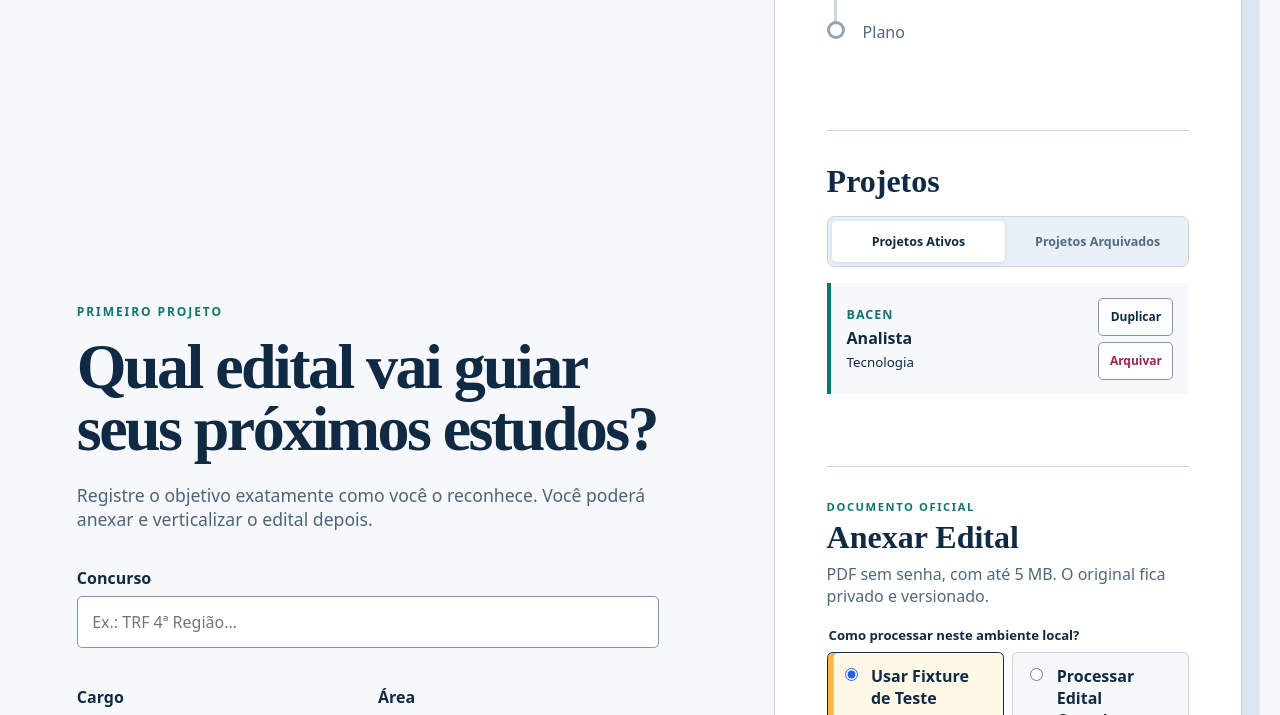
Test: first project journey › archives with confirmation, consults the archive, and duplicates an independent active project
(page scrolled)
What coordinates should you click on to do the following:
click the button with aria-label "Arquivar BACEN"
I would click on:
 (1136, 361)
Its box is [1098, 342, 1173, 380].
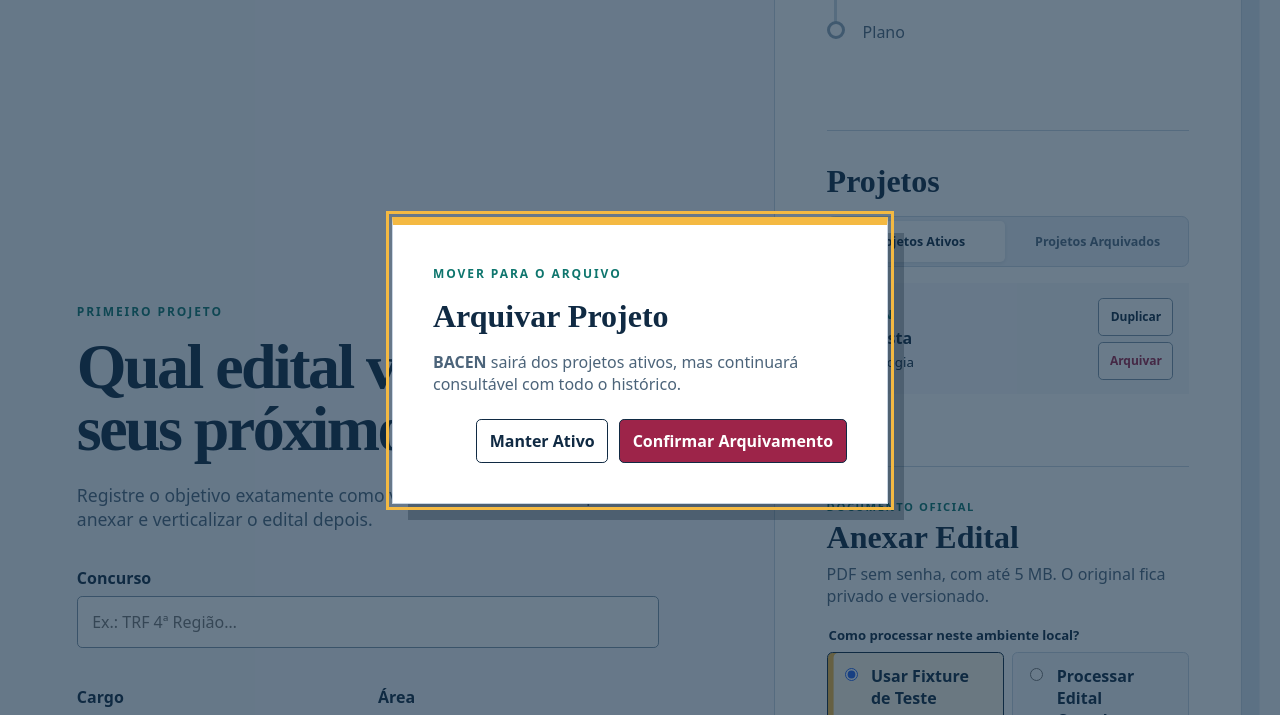
Check: the dialog "Arquivar Projeto" is shown, box [392, 216, 888, 504]
What coordinates should you click on to do the following:
click the button "Confirmar Arquivamento"
I would click on:
 (733, 440)
Its box is [619, 418, 847, 462].
(page scrolled)
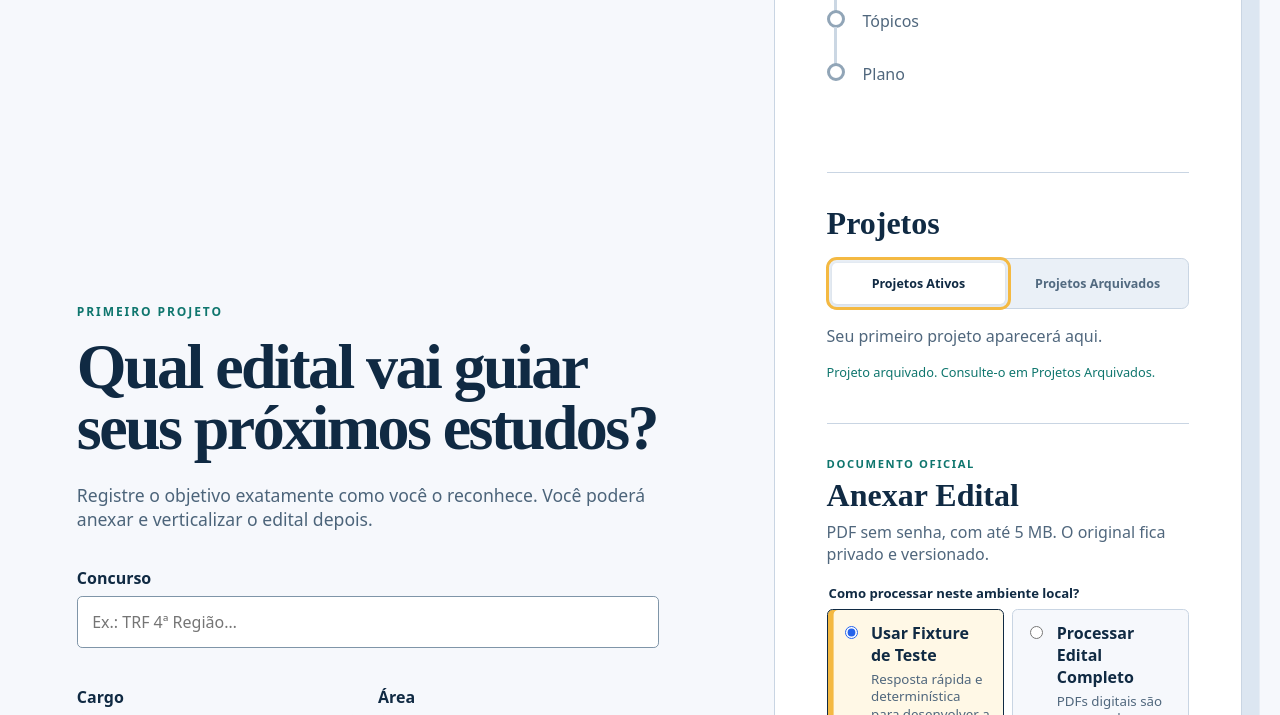
Check: the text "Projeto arquivado. Consulte-o em Projetos Arquivados." is shown, box [827, 363, 1189, 383]
What coordinates should you click on to do the following:
click the button "Projetos Arquivados"
I would click on:
 (1098, 283)
Its box is [1011, 263, 1184, 304].
(page scrolled)
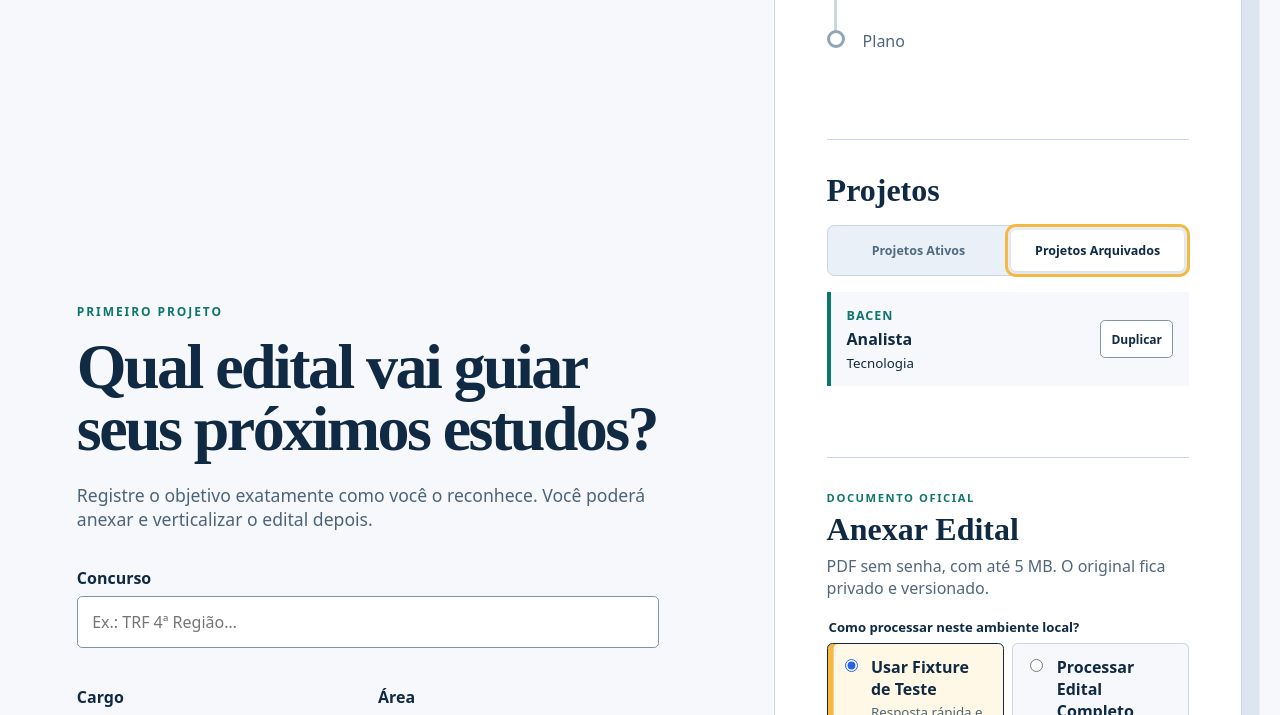
Check: the text "Analista" is shown, box [847, 328, 912, 350]
What coordinates should you click on to do the following:
click the button with aria-label "Duplicar BACEN"
I would click on:
 (1137, 339)
Its box is [1100, 320, 1173, 358].
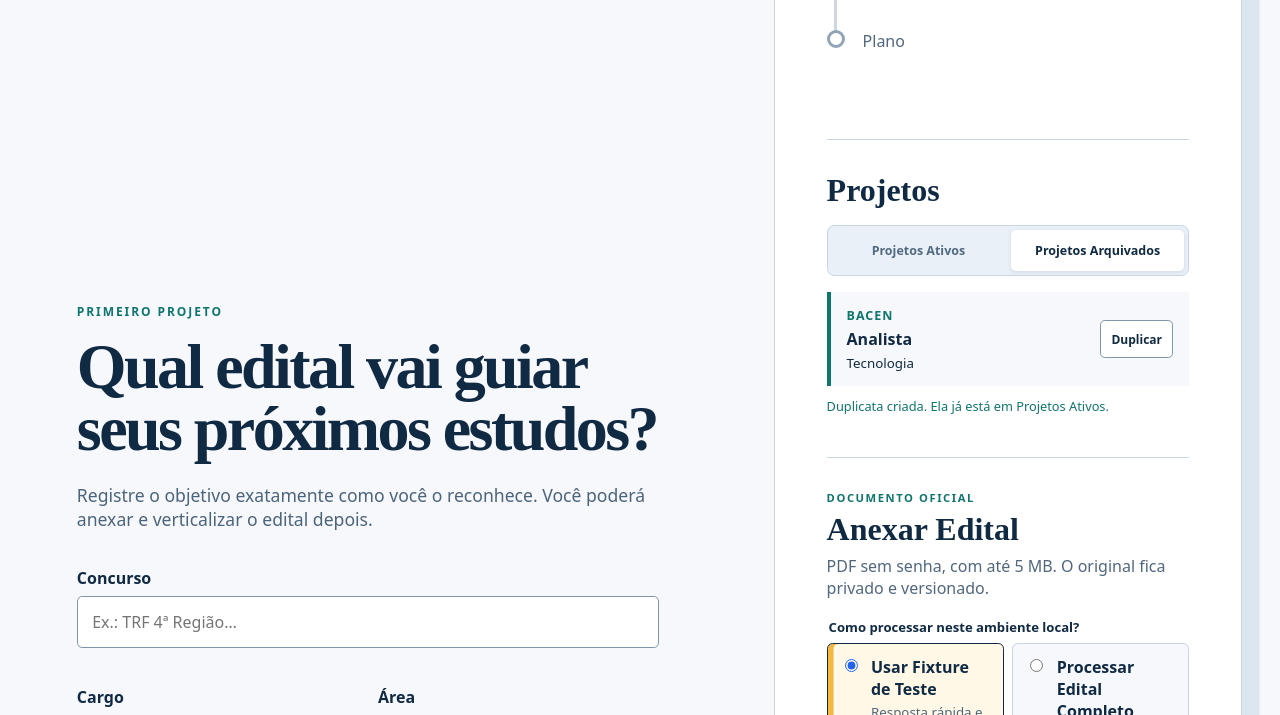
Check: the text "Duplicata criada. Ela já está em Projetos Ativos." is shown, box [827, 397, 1109, 415]
What coordinates should you click on to do the following:
click the button "Projetos Ativos"
I would click on:
 (918, 250)
Its box is [832, 230, 1005, 271].
(page scrolled)
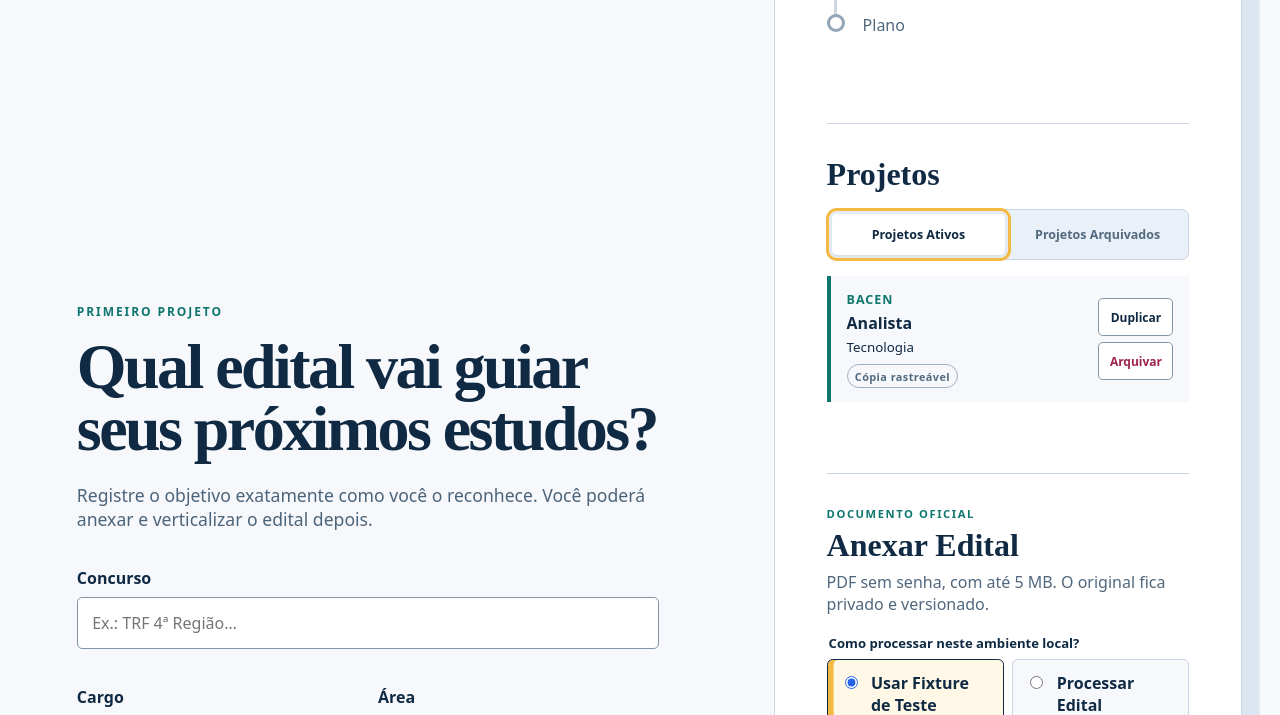
Check: the text "Cópia rastreável" is shown, box [847, 364, 958, 388]
